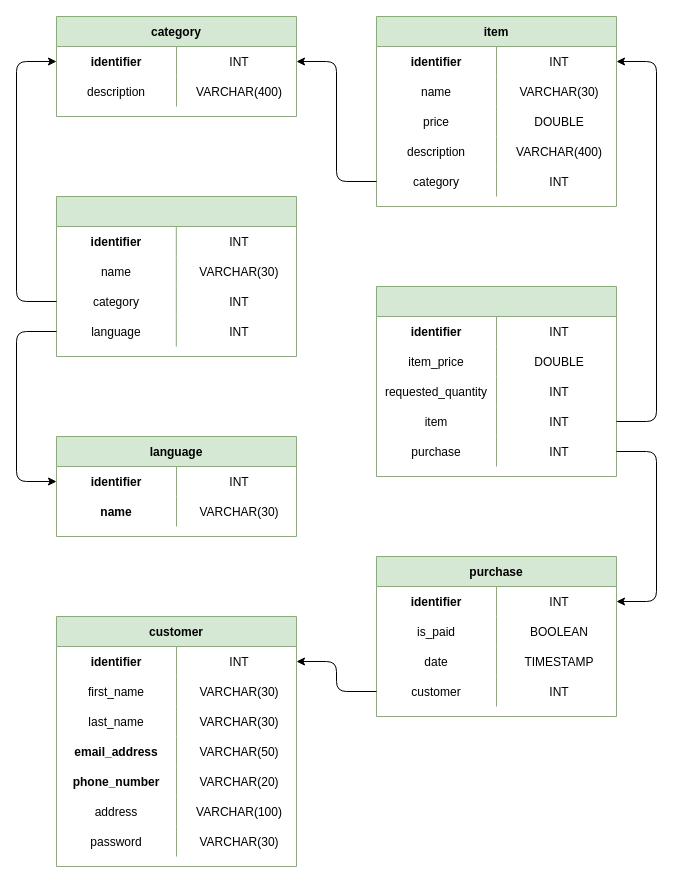
Some shapes in this 673 by 883 pixel diagram are drawn without their labels. The shapes that lost their labels are listed below. From the top down, each one's box as (x1, y1, x2, y2) in pixels, then its label:
(56, 196, 296, 356): category_translation
(376, 286, 616, 476): purchase_line
